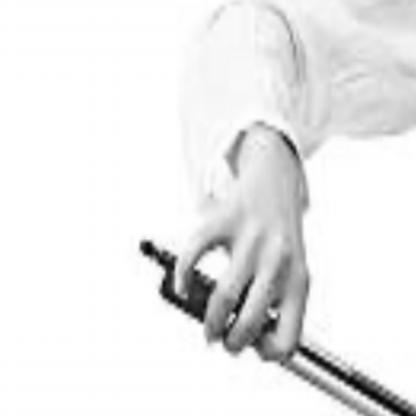bad: (169, 176, 320, 376)
